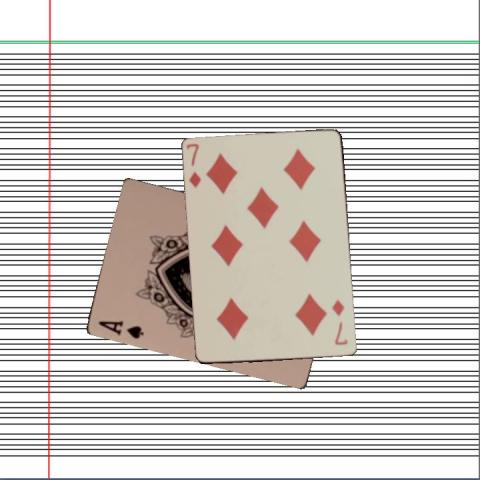7d: (330, 296, 350, 346), (184, 141, 202, 189)
As: (96, 317, 146, 340)
